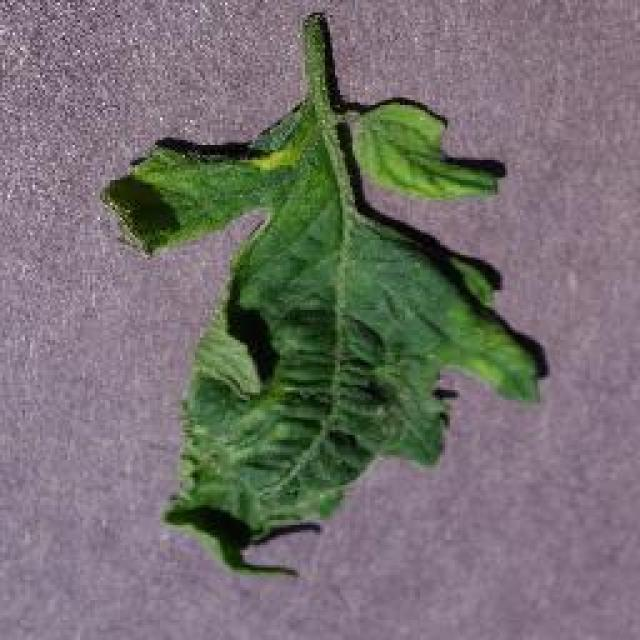Tomato___Tomato_mosaic_virus: (102, 12, 545, 572)
